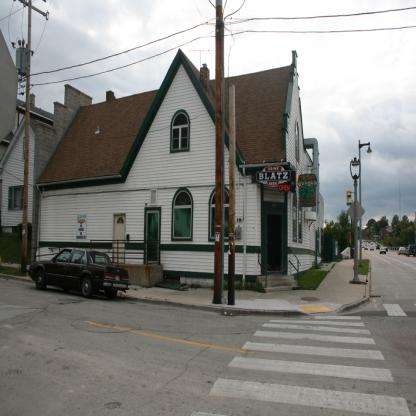Car: (33, 244, 129, 300), (410, 246, 415, 258), (382, 249, 389, 256), (399, 250, 407, 256)
